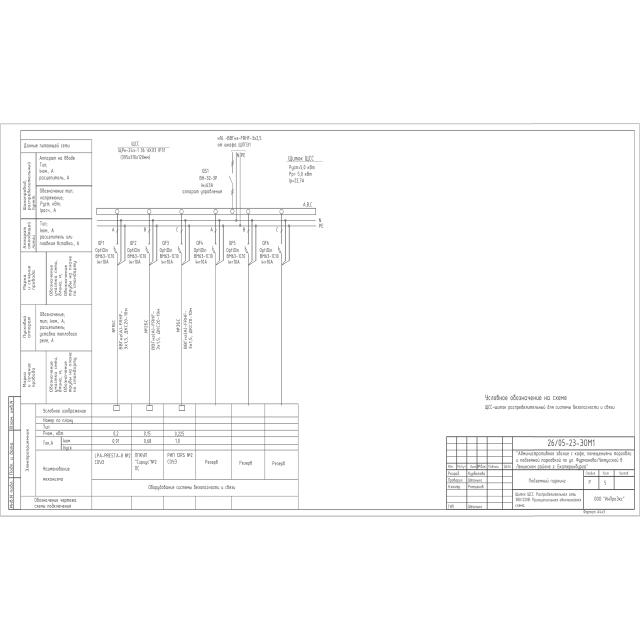-: (118, 140, 165, 162), (126, 246, 146, 265), (94, 247, 114, 265), (159, 247, 179, 265), (259, 248, 279, 265), (226, 248, 246, 264), (193, 248, 213, 264), (200, 175, 218, 188)
QF: (244, 230, 250, 256), (113, 229, 119, 255), (178, 228, 183, 254), (212, 228, 217, 254), (145, 229, 150, 255), (278, 229, 283, 255)
QS: (228, 172, 234, 185)
